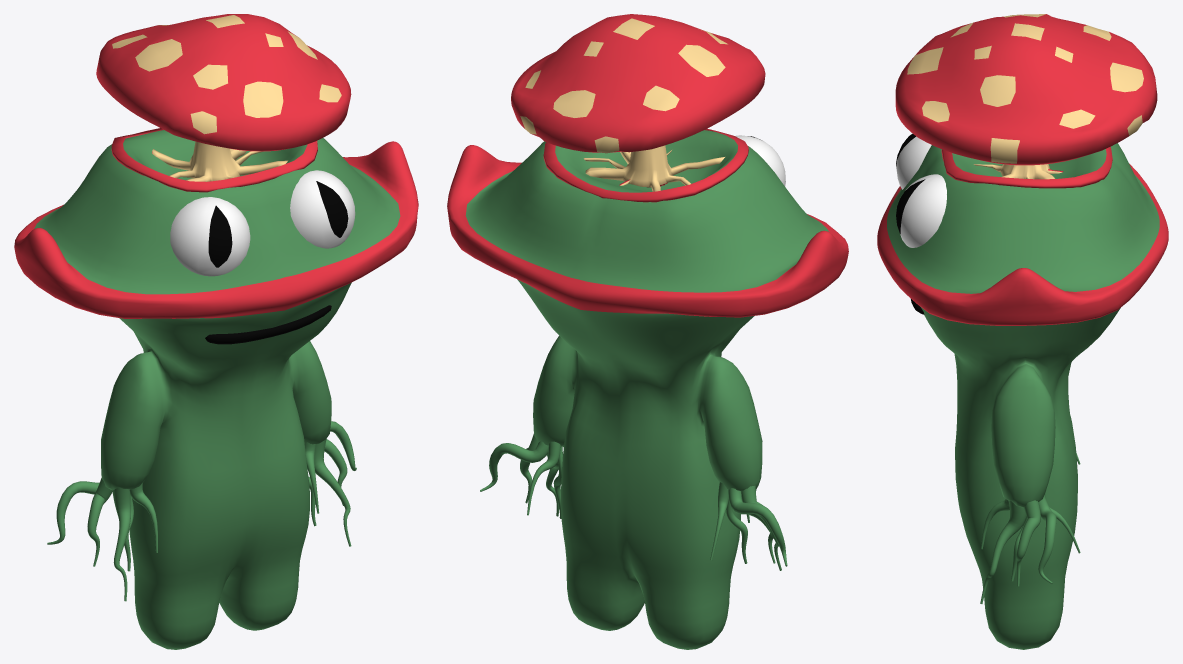
The model's file is Int+Eco Creature.fbx.
The picture shows the model from 3 angles, left to right: view 1: azimuth 30°, elevation 25°; view 2: azimuth 150°, elevation 25°; view 3: azimuth 270°, elevation 25°; orthographic projection.
Visible parts, largest first — view 1: body.003, mushroom, eyes.002, Cylinder, BezierCurve.001, BezierCurve.003, mouth.003, BezierCurve.002, BezierCurve; view 2: body.003, mushroom, Cylinder, BezierCurve.003, BezierCurve.004, eyes.002, BezierCurve.002, BezierCurve.005; view 3: body.003, mushroom, eyes.002, Cylinder, BezierCurve.001, BezierCurve.002, BezierCurve.003.
Boxes of the visible parts, left/top/right/bottom form: body.003: left=14, top=130, right=418, bottom=649; mushroom: left=96, top=14, right=351, bottom=181; eyes.002: left=170, top=170, right=355, bottom=276; Cylinder: left=111, top=128, right=317, bottom=192; BezierCurve.001: left=112, top=439, right=351, bottom=601; BezierCurve.003: left=47, top=421, right=356, bottom=544; mouth.003: left=205, top=305, right=331, bottom=344; BezierCurve.002: left=87, top=439, right=347, bottom=566; BezierCurve: left=129, top=442, right=319, bottom=552; body.003: left=447, top=130, right=848, bottom=649; mushroom: left=511, top=14, right=765, bottom=191; Cylinder: left=543, top=128, right=748, bottom=202; BezierCurve.003: left=480, top=441, right=787, bottom=566; BezierCurve.004: left=527, top=441, right=728, bottom=560; eyes.002: left=735, top=135, right=785, bottom=186; BezierCurve.002: left=520, top=434, right=775, bottom=563; BezierCurve.005: left=553, top=446, right=747, bottom=563; body.003: left=877, top=143, right=1168, bottom=649; mushroom: left=895, top=14, right=1157, bottom=179; eyes.002: left=896, top=133, right=946, bottom=247; Cylinder: left=941, top=146, right=1112, bottom=188; BezierCurve.001: left=980, top=500, right=1026, bottom=603; BezierCurve.002: left=1016, top=500, right=1040, bottom=586; BezierCurve.003: left=1038, top=495, right=1056, bottom=583.
Size of the model in its own units: 81.1 by 128 by 55.99.
